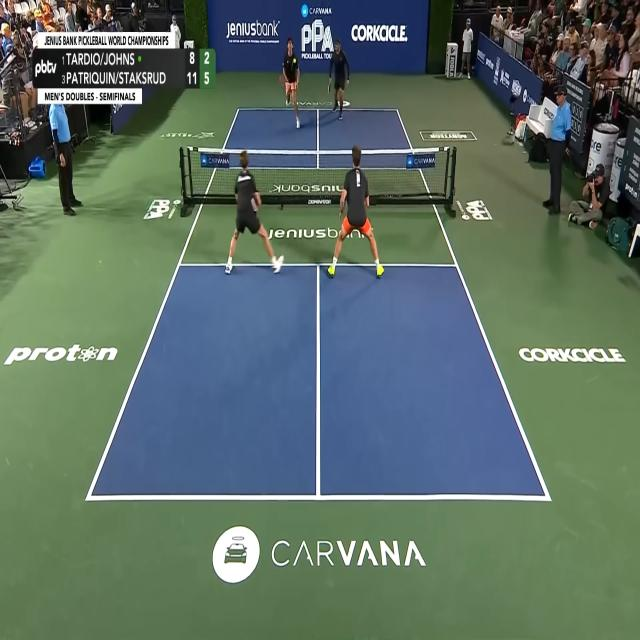ball: (293, 57, 296, 64)
